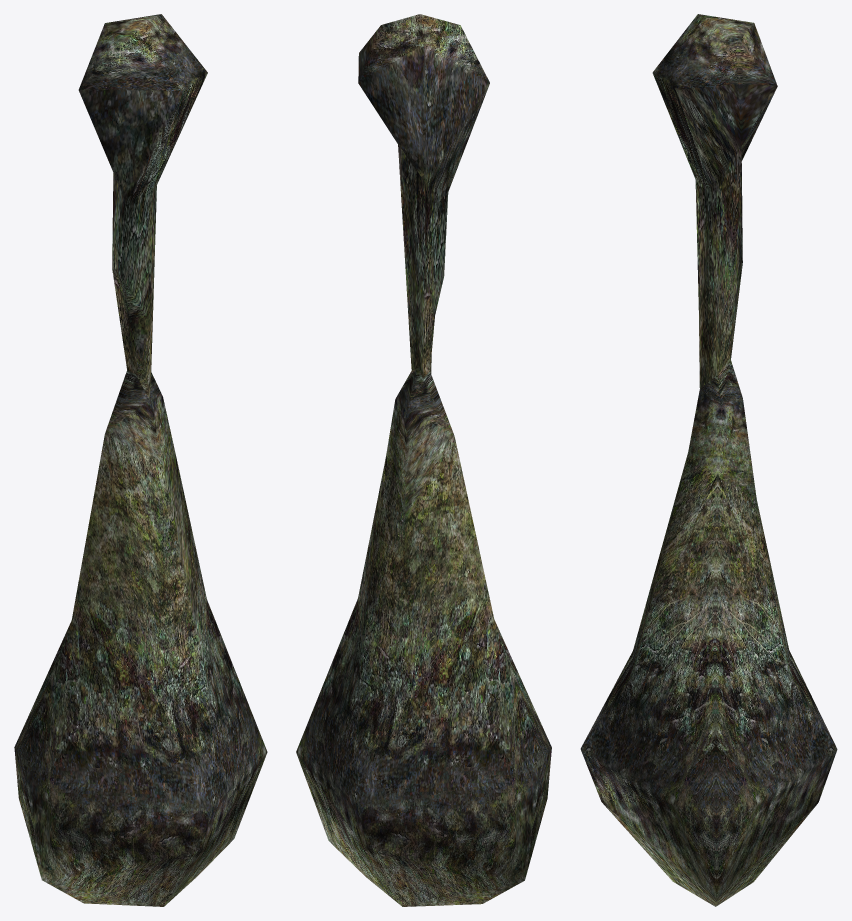
File: thm_all_cave_column_damprock_a1_l2.fbx
3 views of the same model, side by side, from view 1: azimuth 30°, elevation 25°; view 2: azimuth 150°, elevation 25°; view 3: azimuth 270°, elevation 25° (orthographic).
Parts seen in each view (by area): view 1: mesh_node; view 2: mesh_node; view 3: mesh_node.
Part boxes in pixels (left/top/right/bottom): mesh_node: left=14, top=14, right=267, bottom=906; mesh_node: left=296, top=14, right=551, bottom=906; mesh_node: left=580, top=14, right=837, bottom=906.
Bounding box in the file's own units: 1.23 × 4.39 × 1.18.
